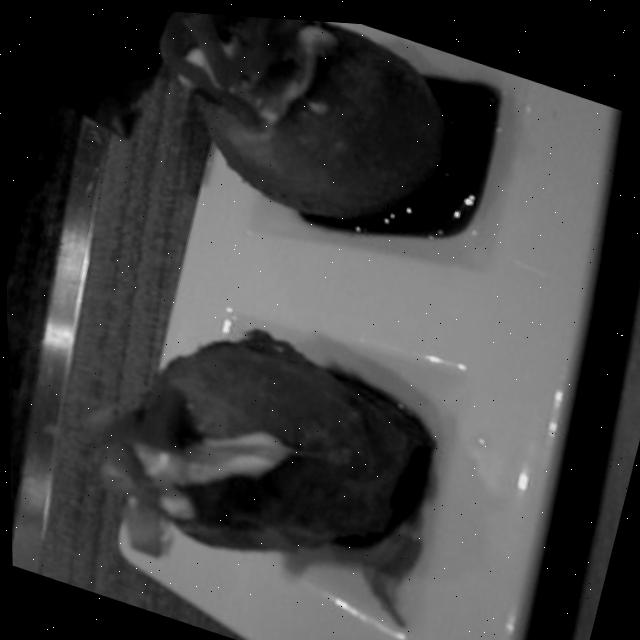炸货点心: (35, 228, 496, 640)
